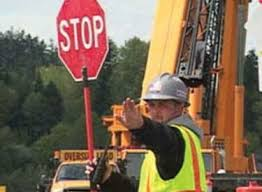stop: (53, 1, 112, 85)
